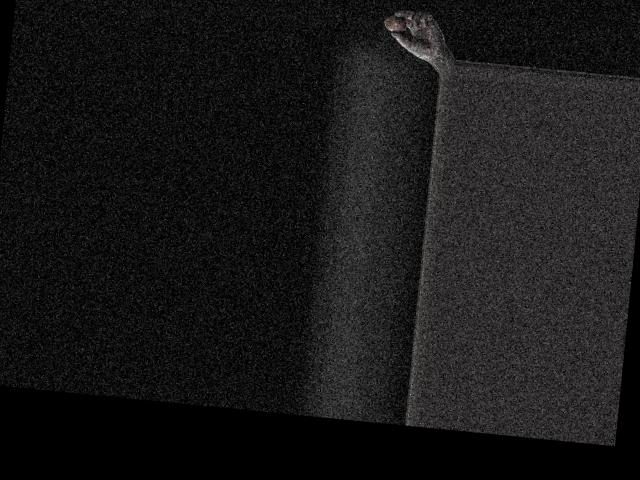egg: (384, 14, 408, 33)
